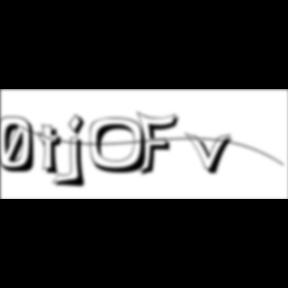0: (1, 115, 44, 174)
F: (137, 110, 185, 178)
O: (90, 117, 154, 176)
j: (66, 113, 92, 191)
t: (38, 124, 70, 179)
v: (185, 131, 239, 177)
